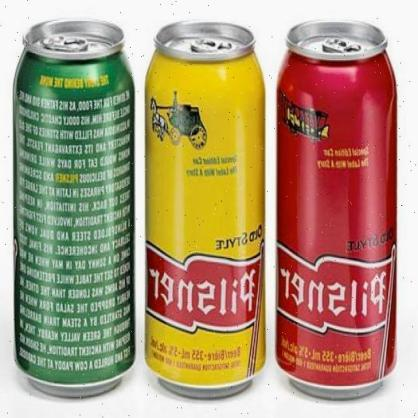can: (271, 15, 402, 403), (141, 19, 267, 399), (14, 17, 136, 398)
